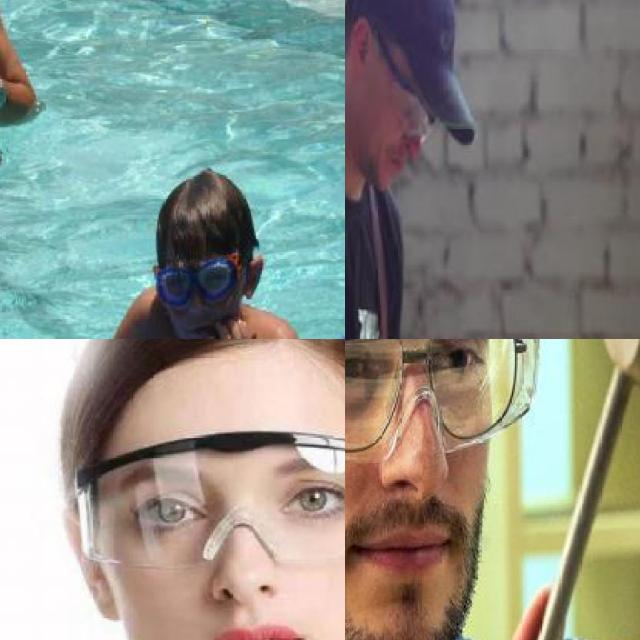face_mask: (379, 60, 441, 141)
face_nomask: (116, 467, 345, 640), (345, 339, 488, 603), (374, 86, 438, 180)
glasses: (71, 427, 345, 573), (345, 339, 543, 454), (158, 265, 254, 319)
hand_noglove: (187, 312, 261, 339)
head_nohelmet: (354, 0, 487, 91), (153, 166, 244, 228)
person: (345, 0, 491, 339), (78, 172, 301, 339)
